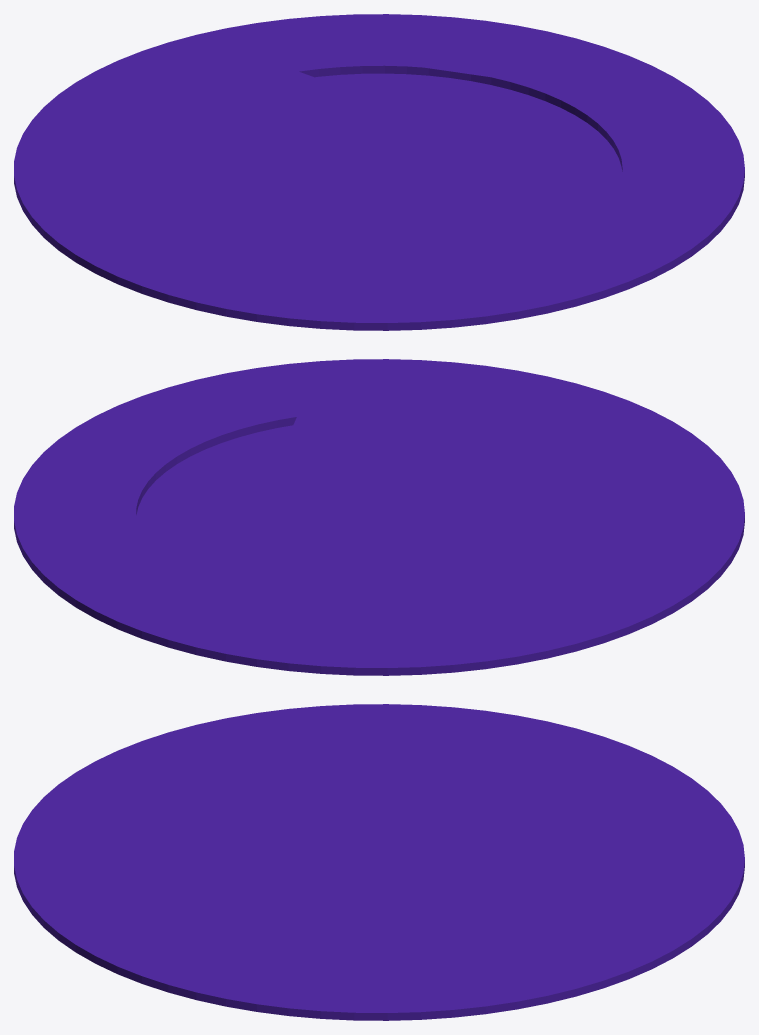
File: Circle_road.fbx
3 views of the same model, one above another, from view 1: azimuth 30°, elevation 25°; view 2: azimuth 150°, elevation 25°; view 3: azimuth 270°, elevation 25° (orthographic).
Visible parts, largest first — view 1: Circle.005; view 2: Circle.005; view 3: Circle.005.
Part boxes in pixels (x1=…): Circle.005: x1=14, y1=14, x2=744, y2=330; Circle.005: x1=14, y1=359, x2=744, y2=675; Circle.005: x1=14, y1=704, x2=744, y2=1020.
Bounding box in the file's own units: 1358 × 15.86 × 1357.
